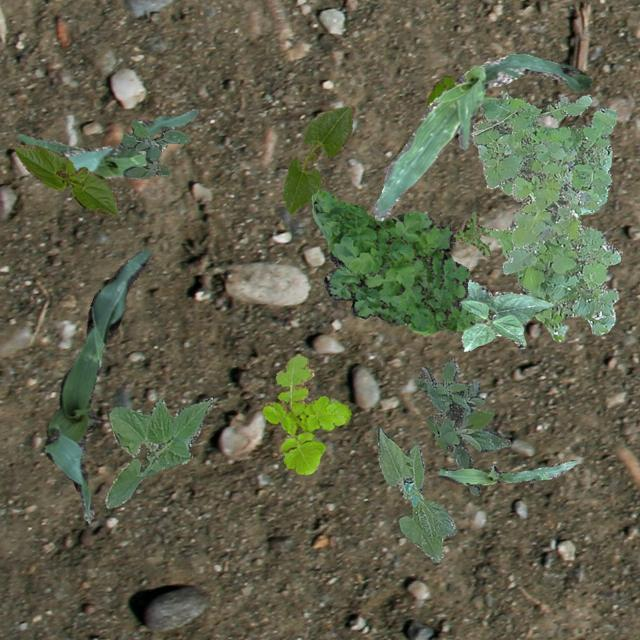crop: (372, 52, 590, 220), (44, 250, 148, 522), (16, 108, 198, 178), (104, 396, 212, 506), (374, 426, 456, 562), (282, 104, 354, 214), (15, 144, 119, 218), (458, 278, 552, 349), (436, 458, 578, 484)
weed: (488, 90, 622, 342), (310, 188, 474, 334), (472, 94, 598, 274), (414, 356, 509, 494), (262, 352, 351, 473), (396, 74, 454, 154), (122, 116, 188, 178), (454, 210, 488, 256)
